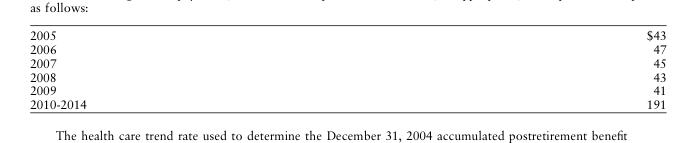table: (29, 29, 665, 111)
table column: (29, 29, 365, 111), (365, 29, 665, 111)
table row: (29, 42, 665, 56), (29, 56, 665, 70), (29, 70, 665, 84), (29, 84, 665, 98), (29, 29, 665, 42), (29, 98, 665, 111)
